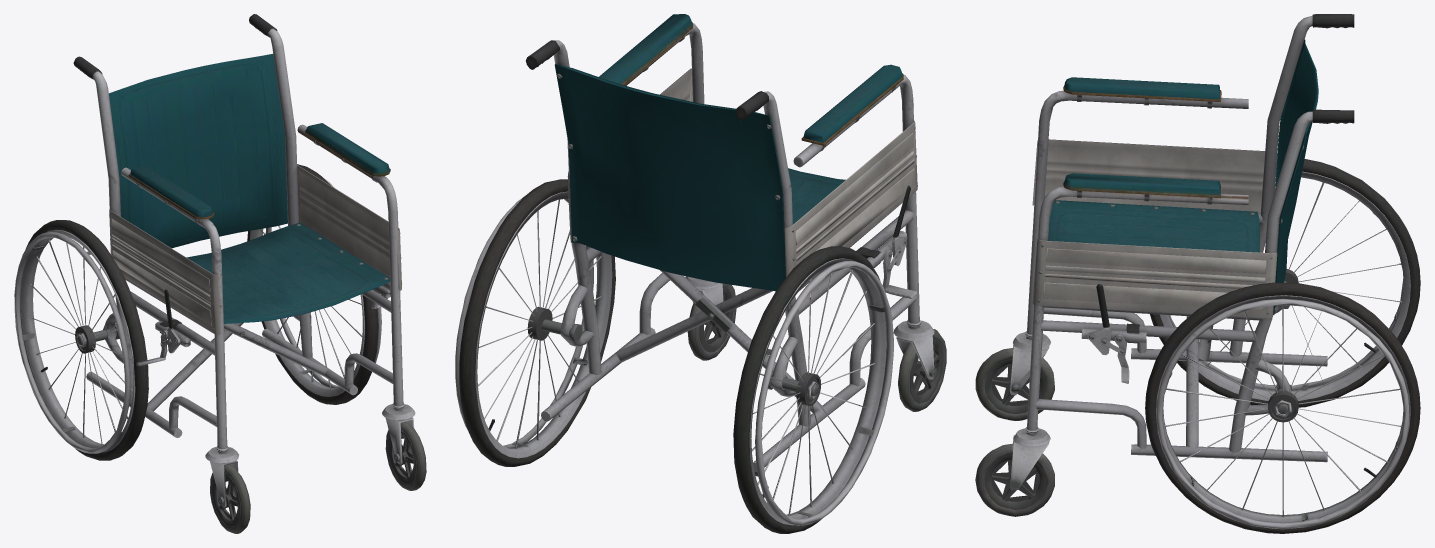
File: wheelchair_01_1k_md.glb
3 views of the same model, side by side, from view 1: azimuth 30°, elevation 25°; view 2: azimuth 150°, elevation 25°; view 3: azimuth 270°, elevation 25° (orthographic). The views are drawn at different scales.
Parts seen in each view (by area): view 1: wheelchair_01; view 2: wheelchair_01; view 3: wheelchair_01.
Boxes of the visible parts, x1,y1,x2,y2 form: wheelchair_01: (14, 14, 426, 533); wheelchair_01: (455, 14, 946, 533); wheelchair_01: (975, 14, 1420, 533).
Bounding box in the file's own units: 0.8241 × 1.1 × 1.09.
1 material, 1 textured.
